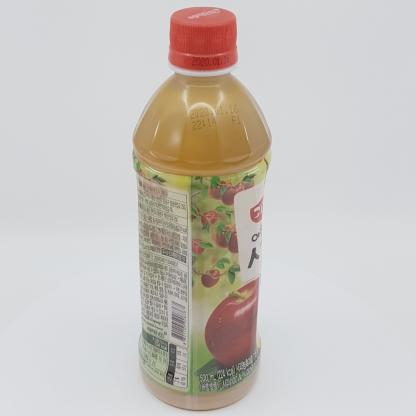--------500ML: (132, 7, 272, 410)
